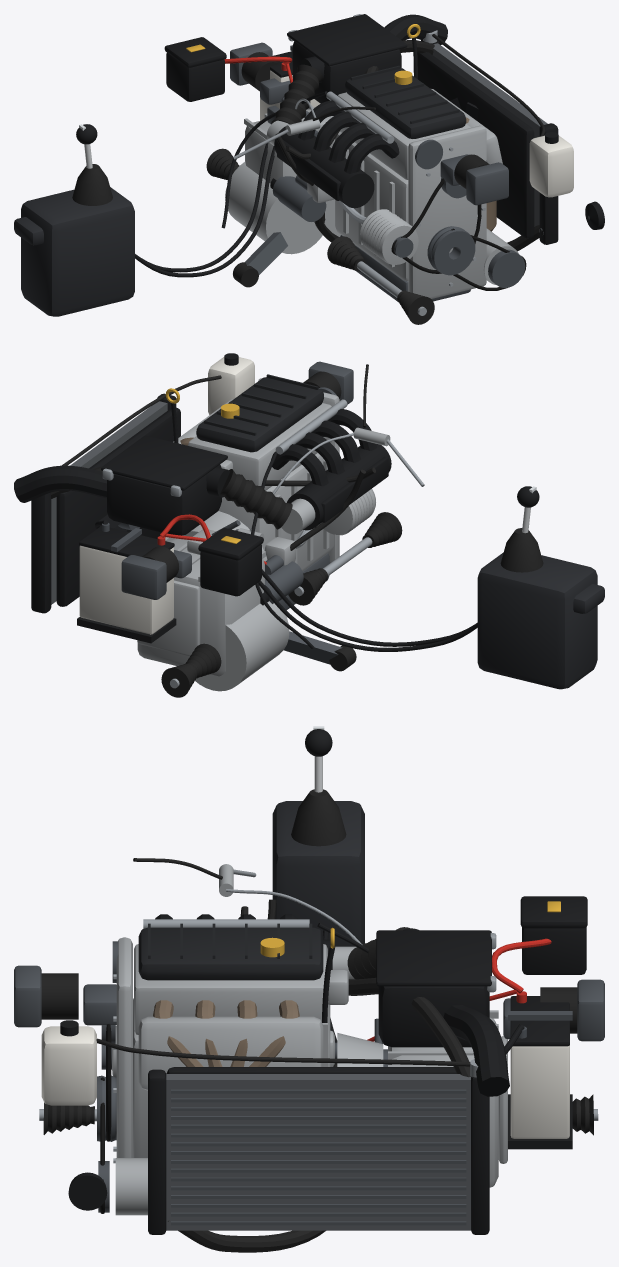
Rendered from motor.glb.
3 views of the same model, one above another, from view 1: azimuth 30°, elevation 25°; view 2: azimuth 150°, elevation 25°; view 3: azimuth 270°, elevation 25° (orthographic). The views are drawn at different scales.
Visible parts, largest first — view 1: palanca, filtro_aire, distribucion, admision, accesorios, electroventilador, soportes_motor, caja_5mt, tapa_valvulas, bloque, fusibles, radiador (+10 smaller); view 2: palanca, filtro_aire, caja_5mt, admision, bateria, tapa_valvulas, soportes_motor, electroventilador, radiador, fusibles, bloque, culata (+8 smaller); view 3: radiador, filtro_aire, palanca, multiple_escape, bateria, tapa_valvulas, soportes_motor, culata, deposito_refrigerante, fusibles, mangueras, accesorios (+9 smaller).
Boxes of the visible parts, left/top/right/bottom form: palanca: left=14, top=124, right=274, bottom=316; filtro_aire: left=271, top=14, right=447, bottom=124; distribucion: left=408, top=125, right=486, bottom=298; admision: left=221, top=91, right=399, bottom=228; accesorios: left=360, top=178, right=526, bottom=290; electroventilador: left=417, top=52, right=534, bottom=238; soportes_motor: left=230, top=42, right=508, bottom=287; caja_5mt: left=225, top=96, right=340, bottom=254; tapa_valvulas: left=345, top=65, right=466, bottom=138; bloque: left=335, top=24, right=470, bottom=302; fusibles: left=164, top=37, right=226, bottom=101; radiador: left=421, top=30, right=558, bottom=244; palanca: left=258, top=486, right=604, bottom=689; filtro_aire: left=14, top=435, right=292, bottom=535; caja_5mt: left=137, top=511, right=289, bottom=691; admision: left=251, top=399, right=391, bottom=648; bateria: left=77, top=514, right=210, bottom=643; tapa_valvulas: left=196, top=374, right=323, bottom=452; soportes_motor: left=121, top=361, right=356, bottom=671; electroventilador: left=56, top=407, right=180, bottom=606; radiador: left=31, top=393, right=176, bottom=613; fusibles: left=198, top=528, right=263, bottom=596; bloque: left=165, top=388, right=334, bottom=610; culata: left=188, top=403, right=331, bottom=490; radiador: left=148, top=1059, right=489, bottom=1234; filtro_aire: left=347, top=927, right=509, bottom=1096; palanca: left=272, top=726, right=364, bottom=1042; multiple_escape: left=138, top=1000, right=327, bottom=1090; bateria: left=492, top=938, right=572, bottom=1149; tapa_valvulas: left=138, top=923, right=323, bottom=980; soportes_motor: left=14, top=965, right=604, bottom=1041; culata: left=134, top=944, right=348, bottom=1034; deposito_refrigerante: left=41, top=1020, right=470, bottom=1105; fusibles: left=520, top=896, right=587, bottom=974; mangueras: left=168, top=899, right=470, bottom=1252; accesorios: left=97, top=1024, right=147, bottom=1215.
Size of the model in its own units: 1.67 by 0.7515 by 1.28.
